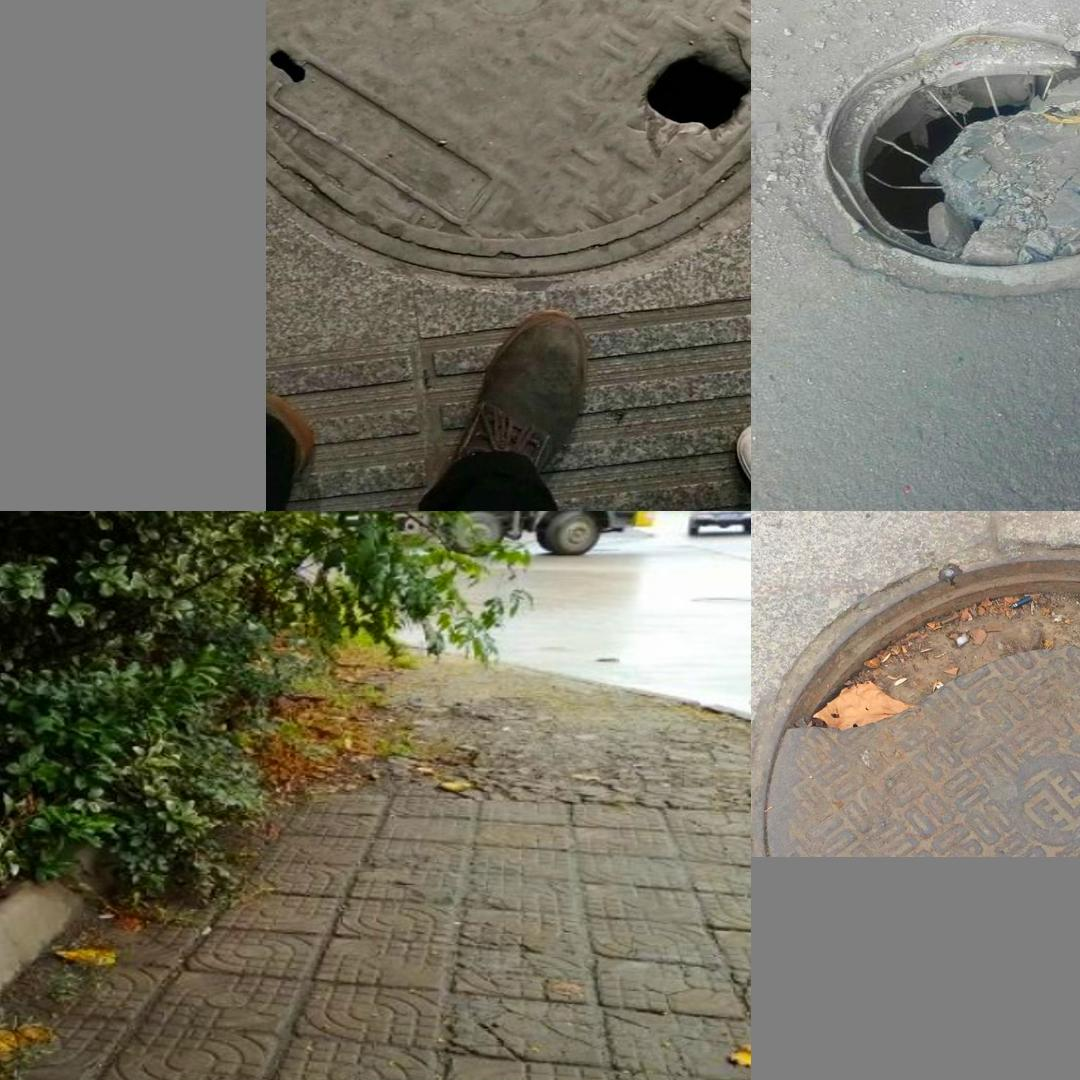broke: (266, 0, 749, 276), (758, 531, 1080, 848), (771, 0, 1080, 290)
